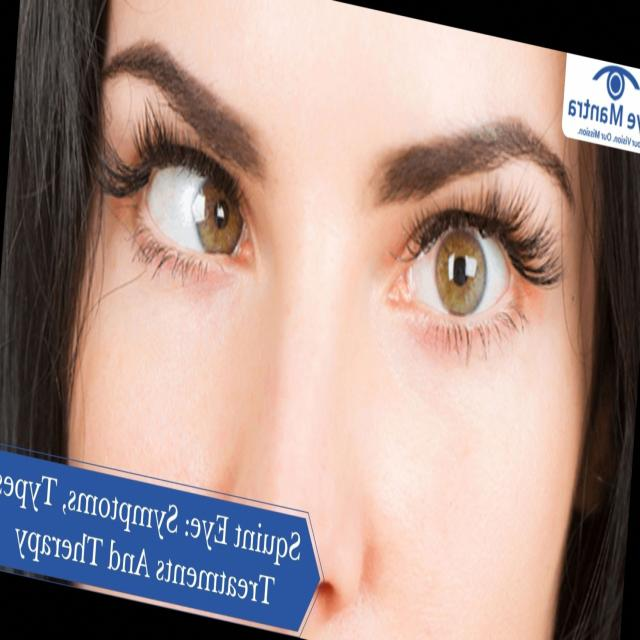Healthy-Eye: (380, 167, 539, 357)
Squint: (115, 116, 264, 311)
